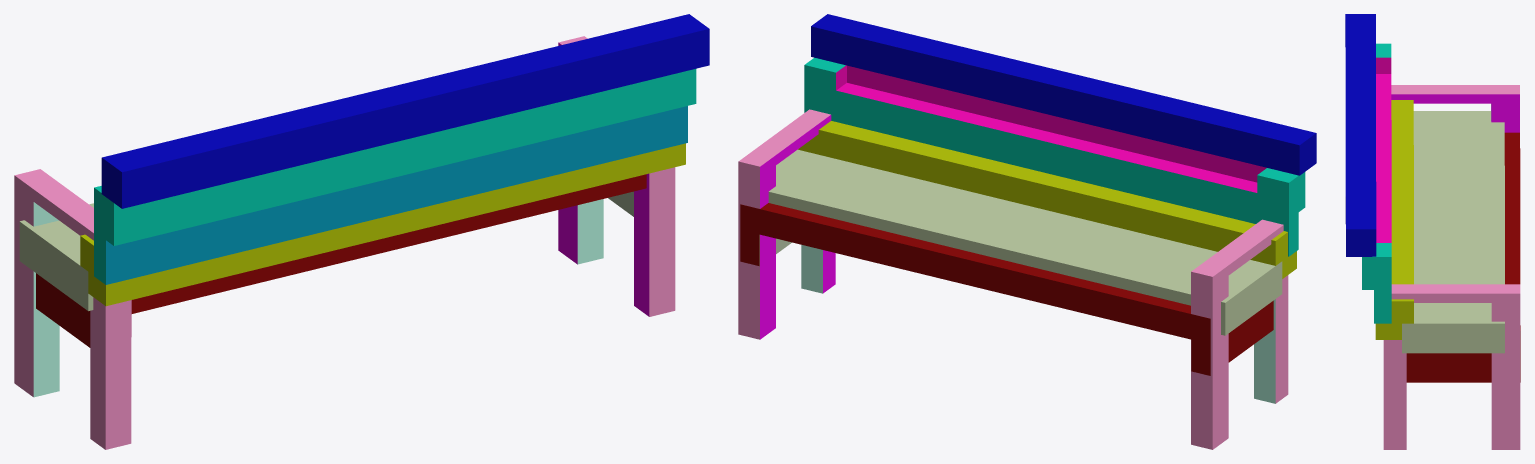
File: 02828884_bench_126.glb
The picture shows the model from 3 angles, left to right: view 1: azimuth 30°, elevation 25°; view 2: azimuth 150°, elevation 25°; view 3: azimuth 270°, elevation 25°; orthographic projection. The views are drawn at different scales.
Visible parts, largest first — view 1: Plane; view 2: Plane; view 3: Plane.
Boxes of the visible parts, x1=… form: Plane: x1=14, y1=14, x2=709, y2=449; Plane: x1=738, y1=14, x2=1316, y2=449; Plane: x1=1345, y1=14, x2=1520, y2=449.
Bounding box in the file's own units: 1.75 × 0.8501 × 0.6021.
